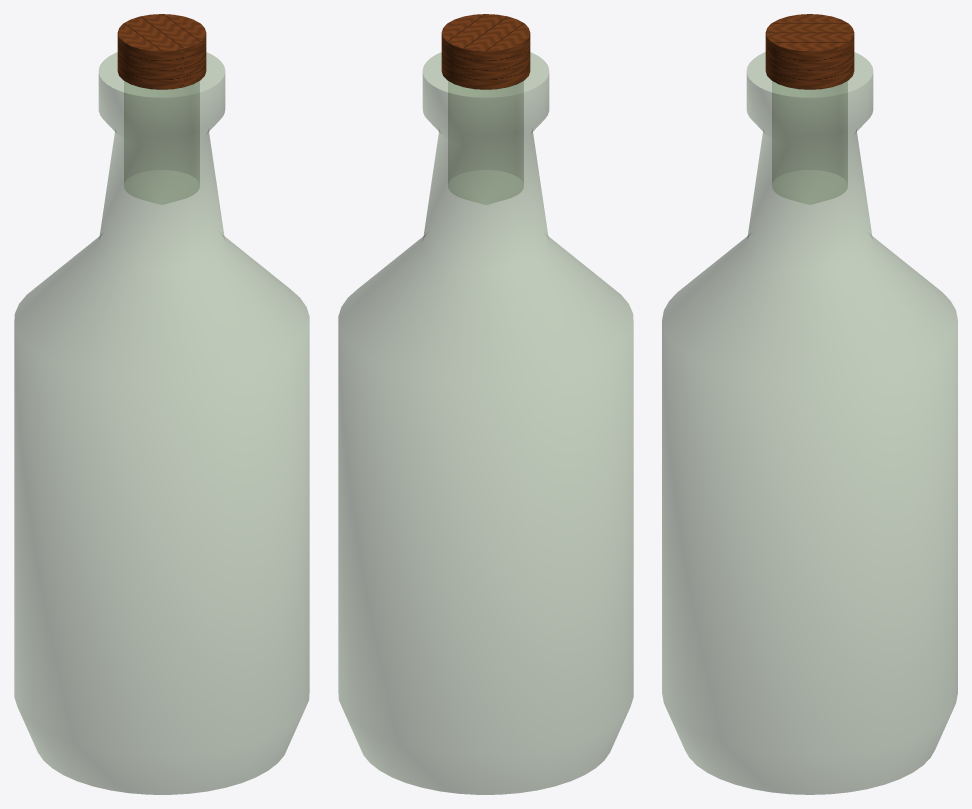
The model's file is adventurers-tavern-and-guild-hall-wine-bottle-3859fae3__24713.glb.
3 views of the same model, side by side, from view 1: azimuth 30°, elevation 25°; view 2: azimuth 150°, elevation 25°; view 3: azimuth 270°, elevation 25° (orthographic).
Parts seen in each view (by area): view 1: wine-bottle; view 2: wine-bottle; view 3: wine-bottle.
Part boxes in pixels (x1=…): wine-bottle: x1=14, y1=14, x2=309, y2=794; wine-bottle: x1=338, y1=14, x2=633, y2=794; wine-bottle: x1=662, y1=14, x2=957, y2=794.
Bounding box in the file's own units: 0.14 × 0.37 × 0.14.
Materials: 2 (1 with a texture image).
